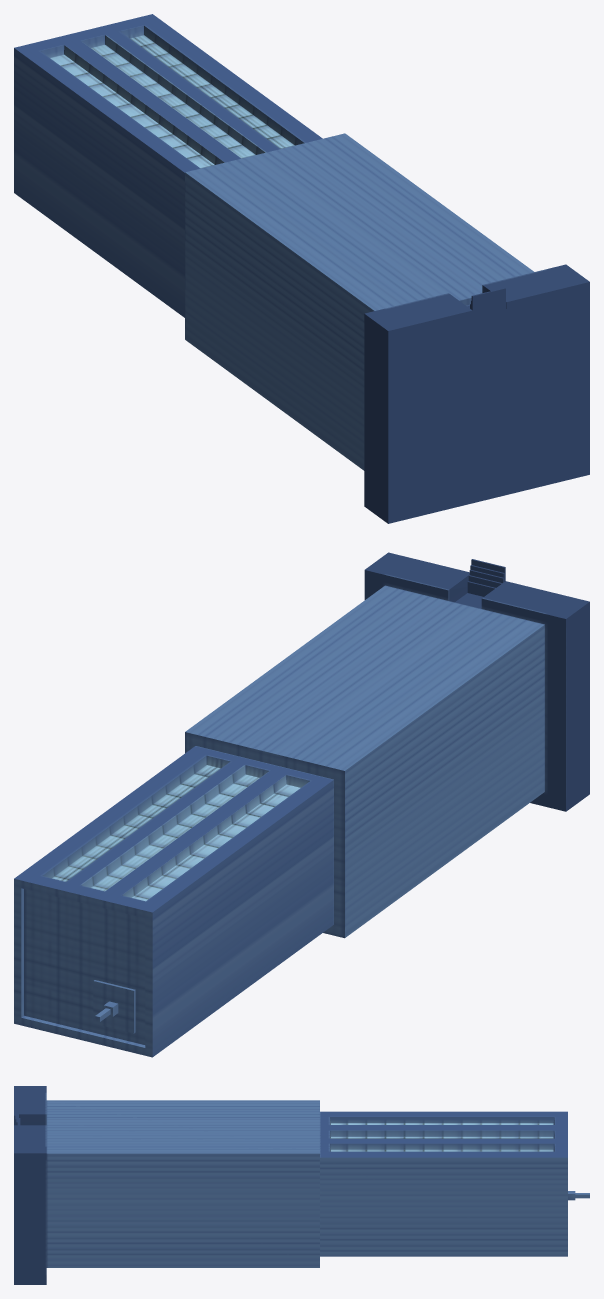
Rendered from buildings-comercial-02.obj.
The picture shows the model from 3 angles, top to bottom: view 1: azimuth 30°, elevation 25°; view 2: azimuth 150°, elevation 25°; view 3: azimuth 270°, elevation 25°; orthographic projection. The views are drawn at different scales.
Parts seen in each view (by area): view 1: buildings-comercial-02_Cube.094; view 2: buildings-comercial-02_Cube.094; view 3: buildings-comercial-02_Cube.094.
Boxes of the visible parts, x1,y1,x2,y2 form: buildings-comercial-02_Cube.094: (14,14,589,523); buildings-comercial-02_Cube.094: (14,552,589,1057); buildings-comercial-02_Cube.094: (14,1086,589,1284).
Size of the model in its own units: 3.89 by 3.81 by 14.1.
